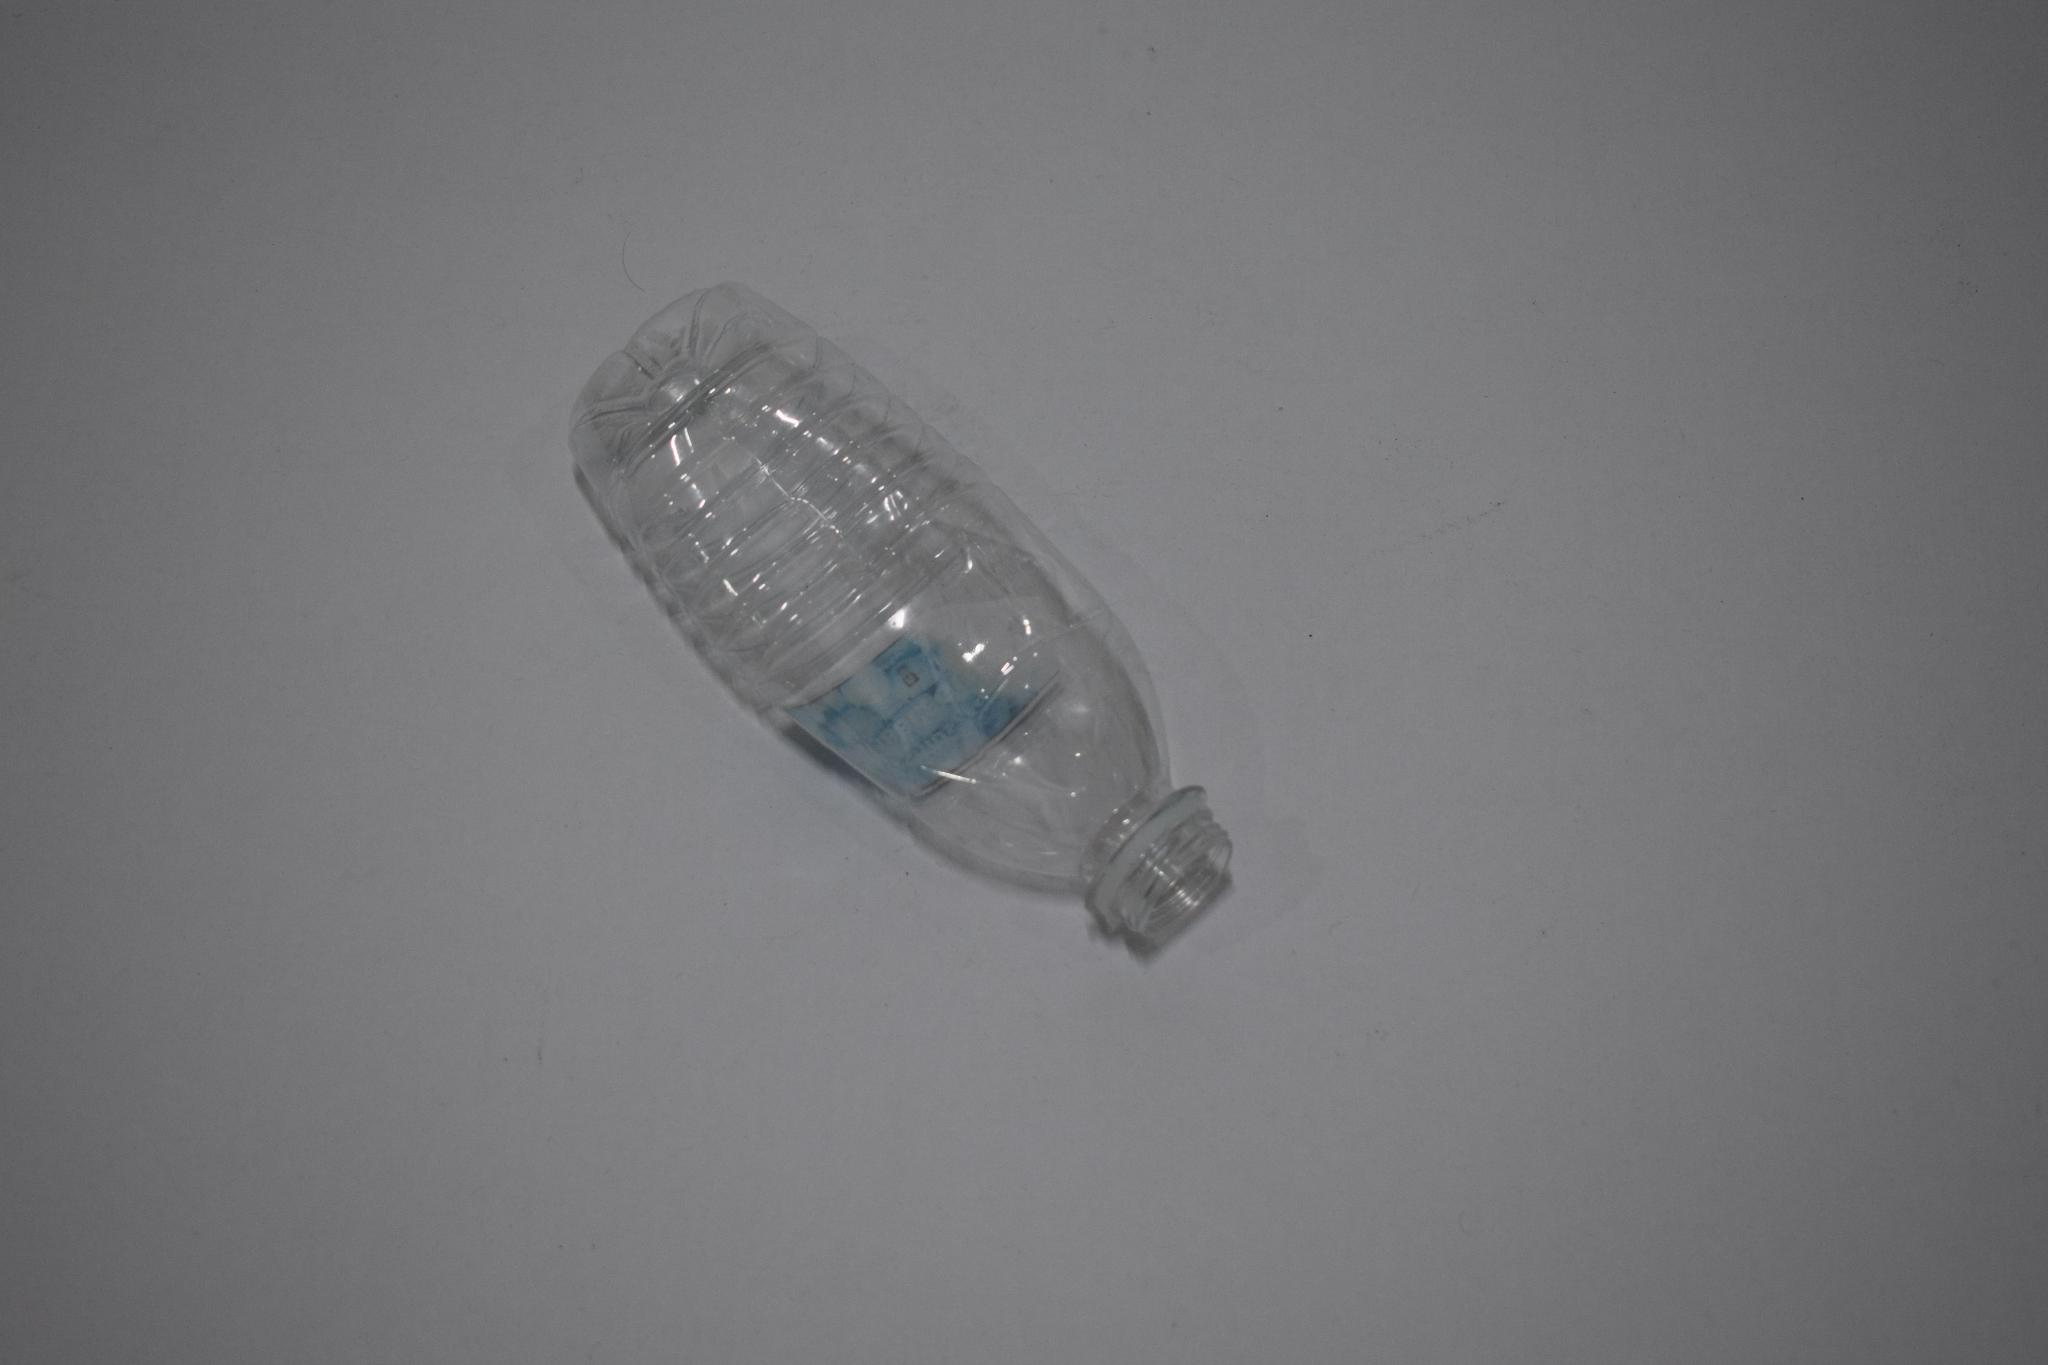bottle: (560, 271, 1243, 954)
